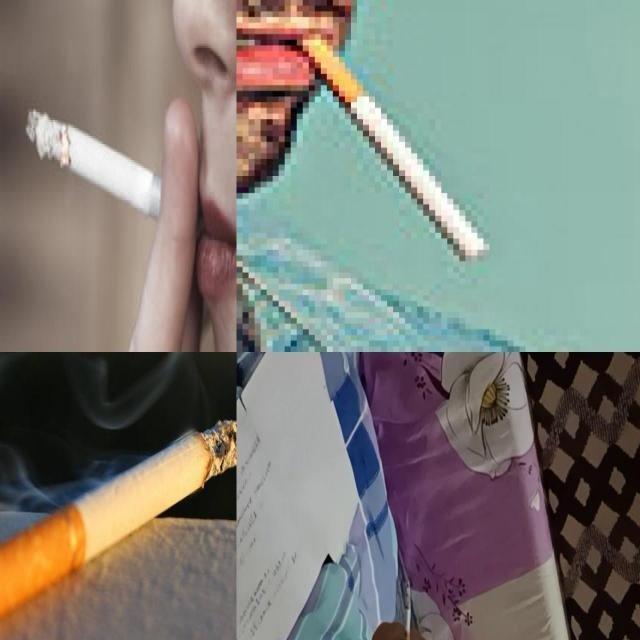cigarette: (0, 418, 236, 621), (296, 28, 489, 256), (24, 107, 204, 239), (404, 578, 411, 640)
